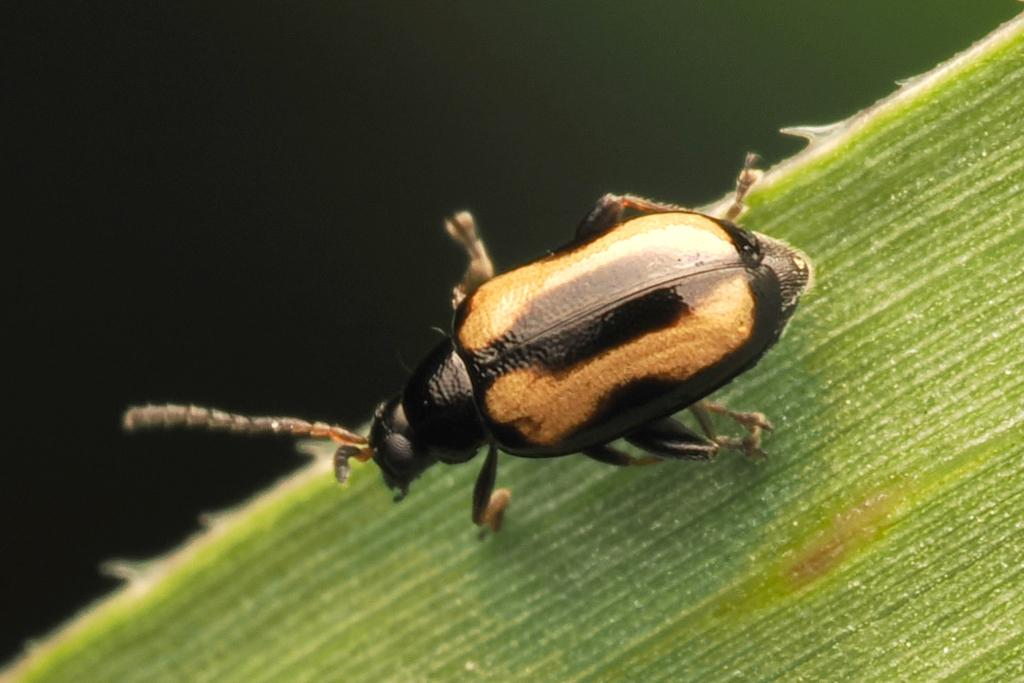flea_beetle: (83, 94, 903, 599)
